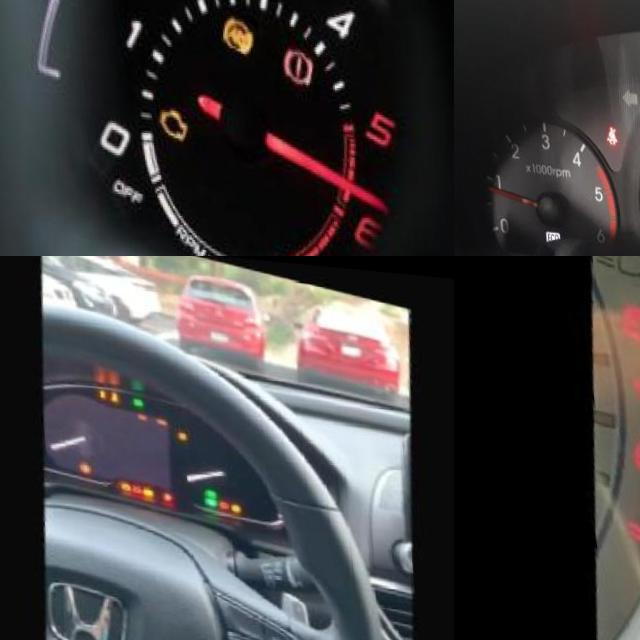Engine cooling system: (602, 483, 640, 552)
